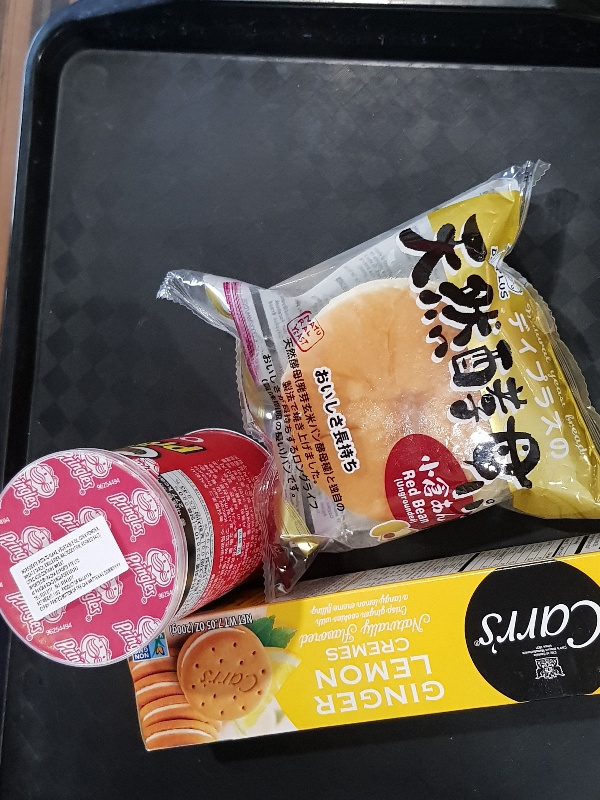Carr's Ginger Lemon Cremes: (127, 534, 600, 755)
Dayplus Red Bean: (156, 157, 600, 592)
Pringles Original: (1, 427, 280, 671)
